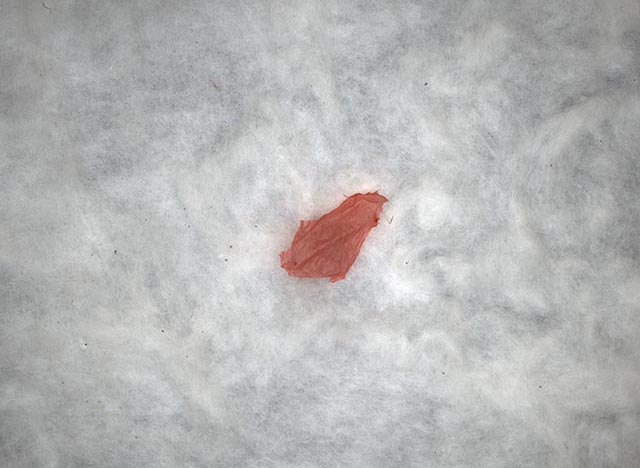plastic film: (276, 190, 390, 283)
